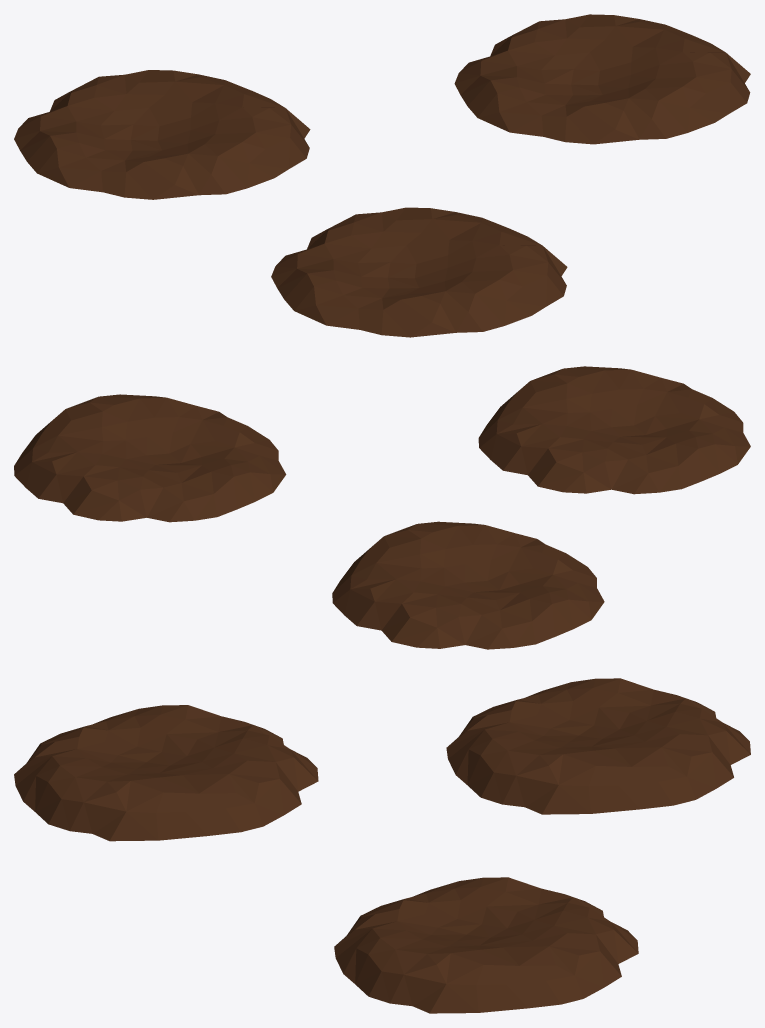
The model's file is Broccoli1.fbx.
3 renders of one model, top to bottom at view 1: azimuth 30°, elevation 25°; view 2: azimuth 150°, elevation 25°; view 3: azimuth 270°, elevation 25°, orthographic. The views are drawn at different scales.
Visible parts, largest first — view 1: 1; view 2: 1; view 3: 1.
Part boxes in pixels (left/top/right/bottom): 1: left=14, top=14, right=750, bottom=337; 1: left=14, top=366, right=750, bottom=649; 1: left=14, top=678, right=750, bottom=1013.
Size of the model in its own units: 120 by 5.19 by 114.
